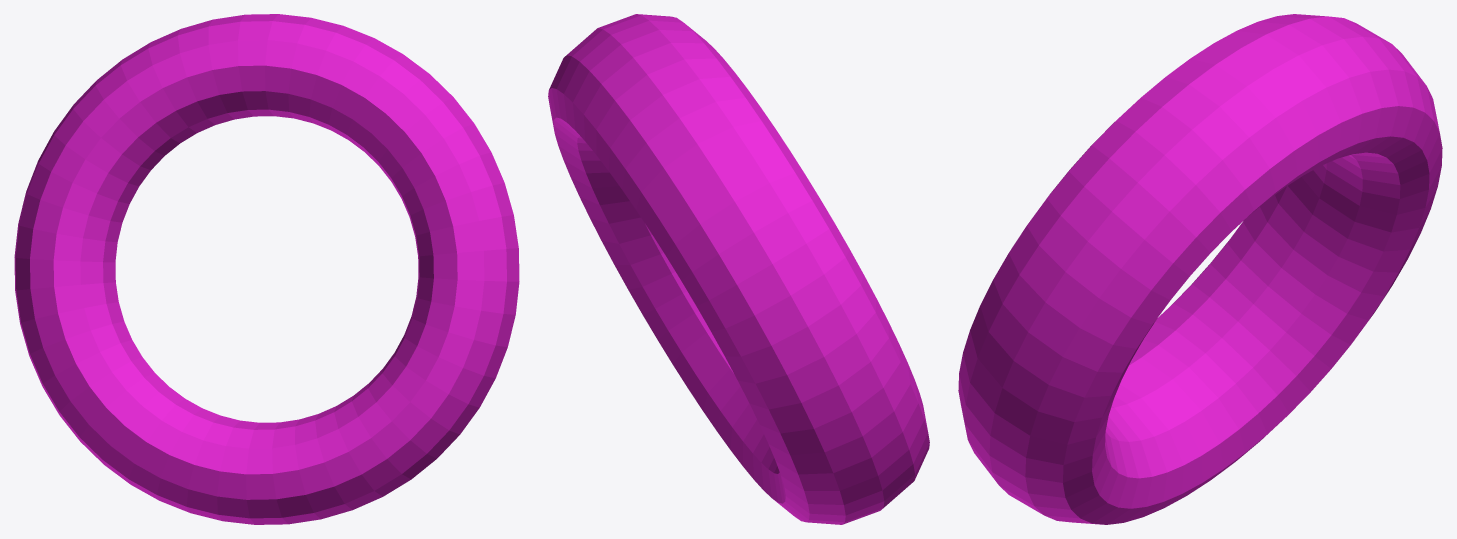
File: donut3.glb
The picture shows the model from 3 angles, left to right: view 1: azimuth 30°, elevation 25°; view 2: azimuth 150°, elevation 25°; view 3: azimuth 270°, elevation 25°; orthographic projection. The views are drawn at different scales.
Parts seen in each view (by area): view 1: Torus; view 2: Torus; view 3: Torus.
Part boxes in pixels (left/top/right/bottom): Torus: left=14, top=14, right=519, bottom=524; Torus: left=548, top=14, right=929, bottom=524; Torus: left=958, top=14, right=1442, bottom=524.
Size of the model in its own units: 2.19 by 2.37 by 2.04.
